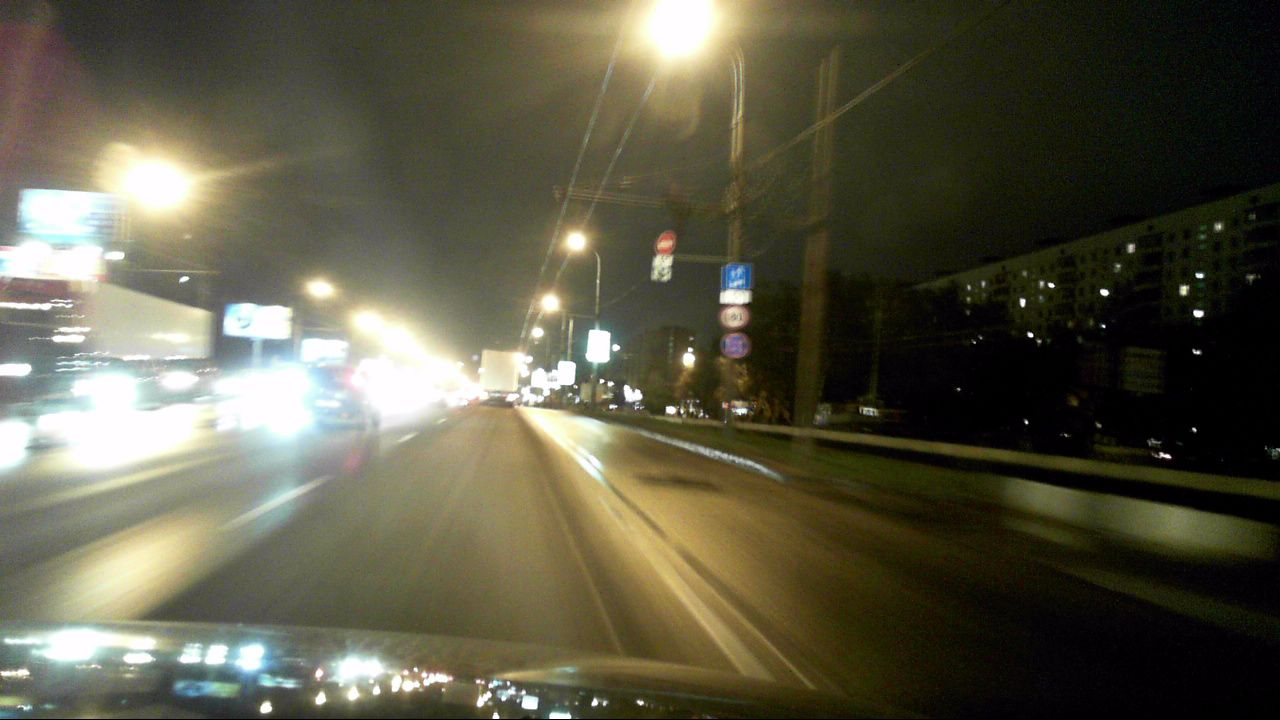No Parking: (721, 332, 749, 359)
